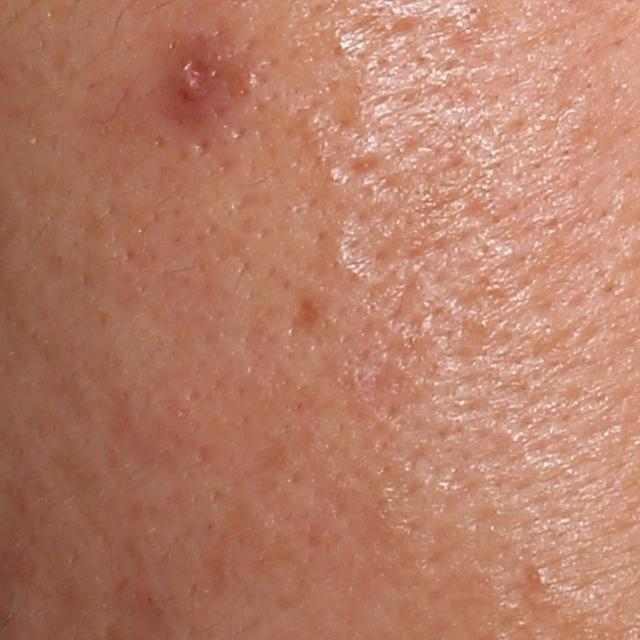atrophic_scar: (333, 188, 405, 282), (278, 286, 337, 346), (312, 78, 365, 140), (335, 150, 386, 185)
comedo: (466, 1, 487, 22)
papule: (173, 64, 206, 109)
